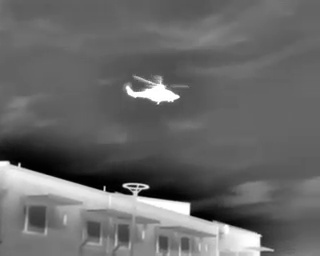HELICOPTER: (121, 68, 192, 113)
